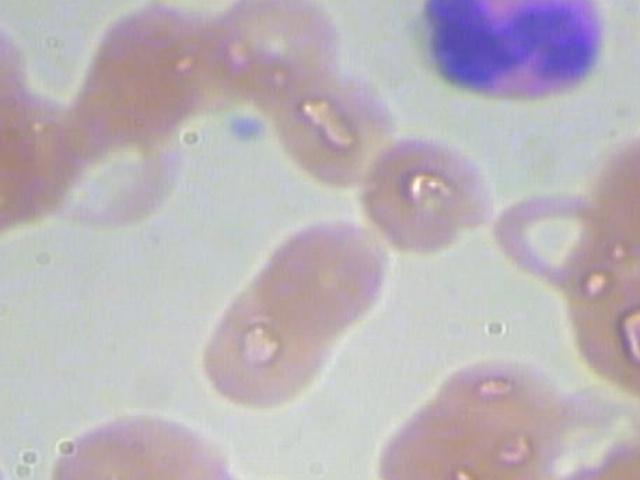Platelets: (220, 108, 274, 148)
RBC: (189, 267, 337, 417), (244, 212, 391, 341), (353, 129, 500, 257), (258, 59, 405, 187), (38, 406, 246, 480), (0, 5, 45, 133)
WBC: (393, 0, 618, 119)
